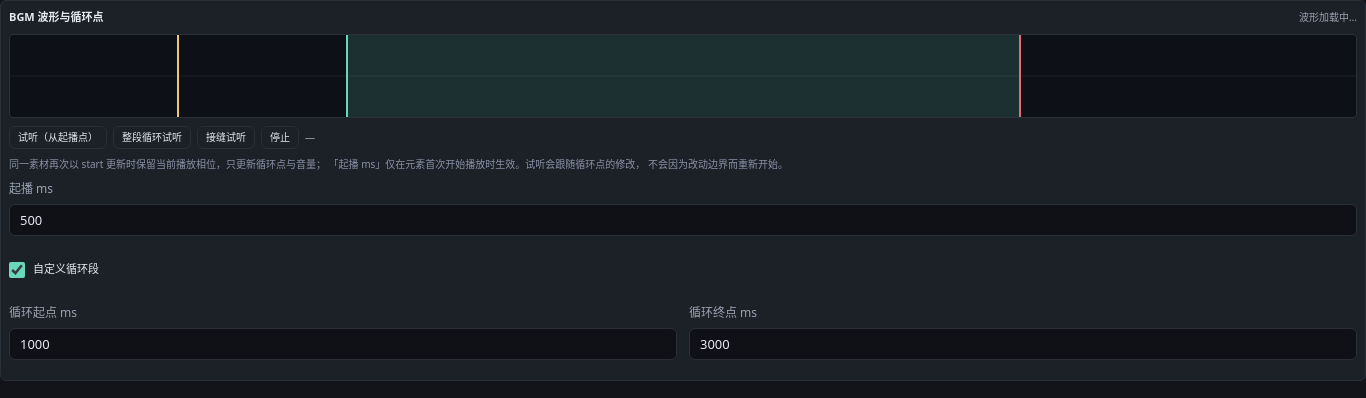
AudioLoopEditor › ignores a negative numeric commit
The image size is (1366, 398).
Replace the text in the number field labelled "起播 ms" with "-20" at (683, 220), box [9,204,1357,236]
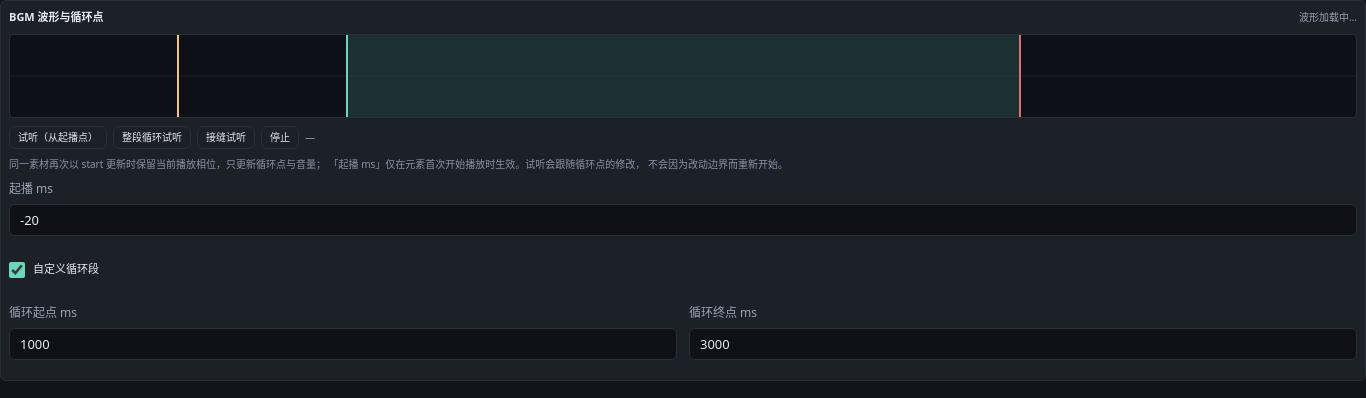
Leave the number field labelled "起播 ms", box [9,204,1357,236]
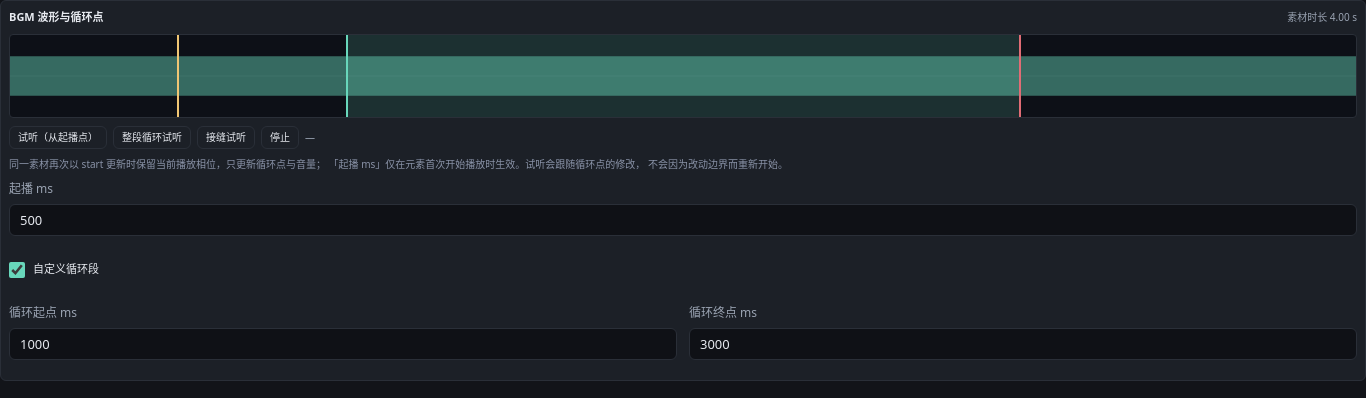
expect the number field labelled "起播 ms" holds "500": met, box [9,204,1357,236]
